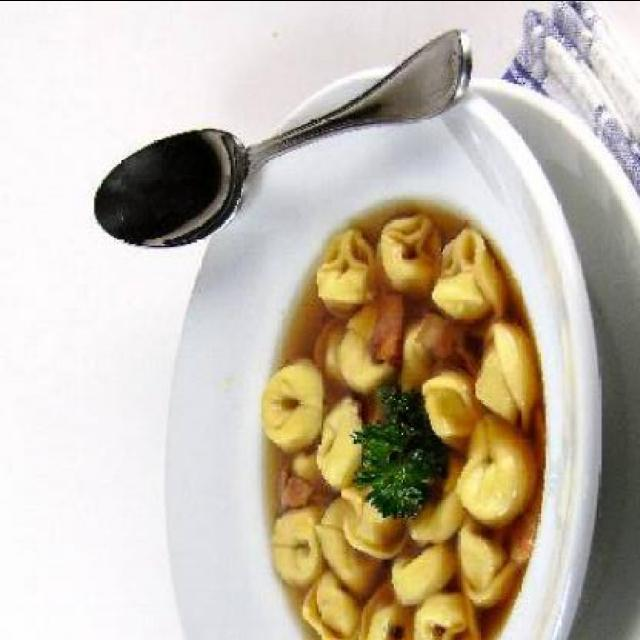Tortellini in broth: (256, 235, 544, 628)
